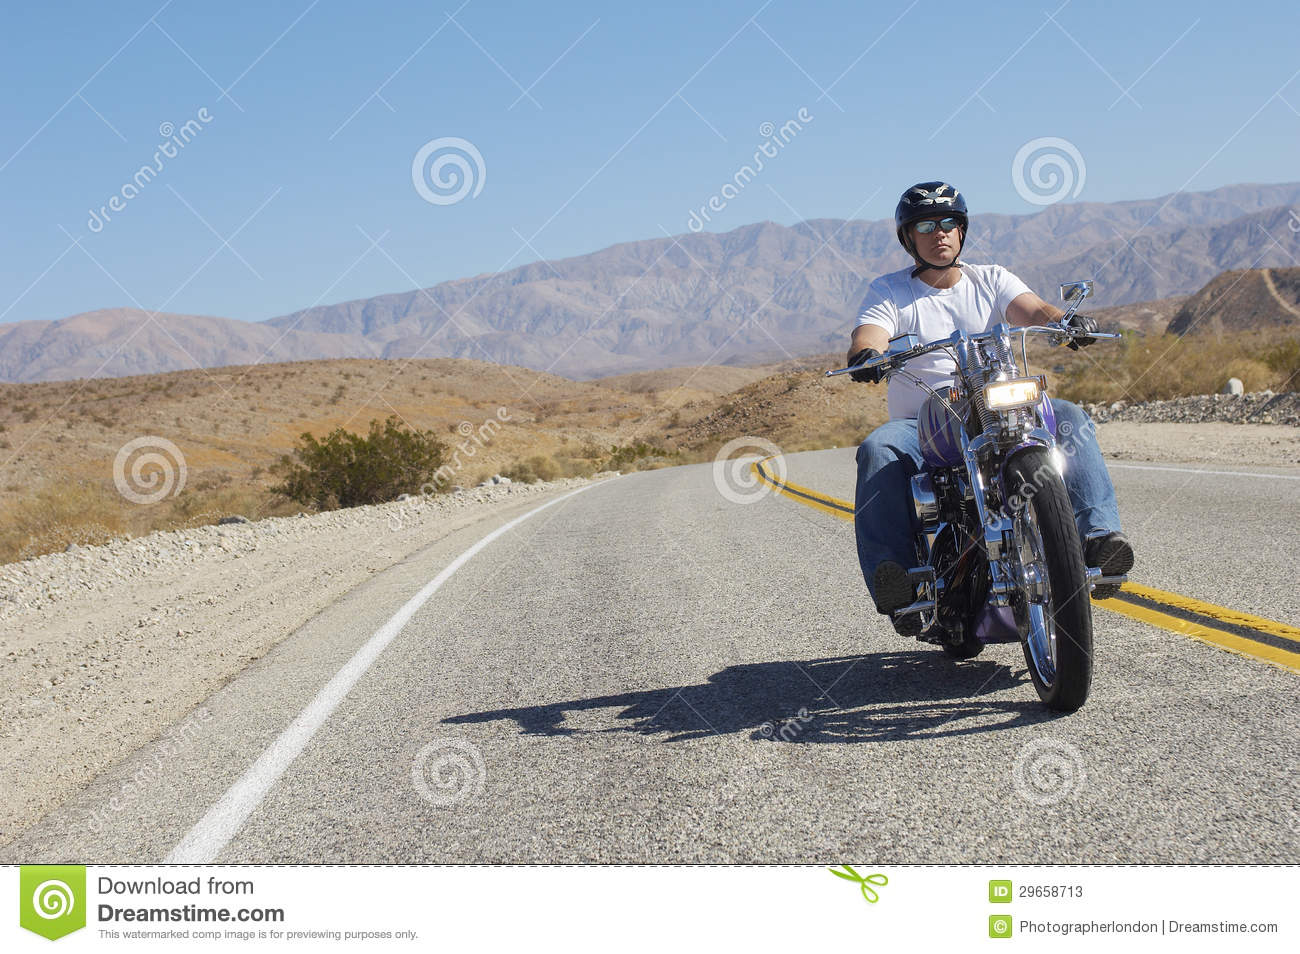helmet: (892, 176, 964, 222)
